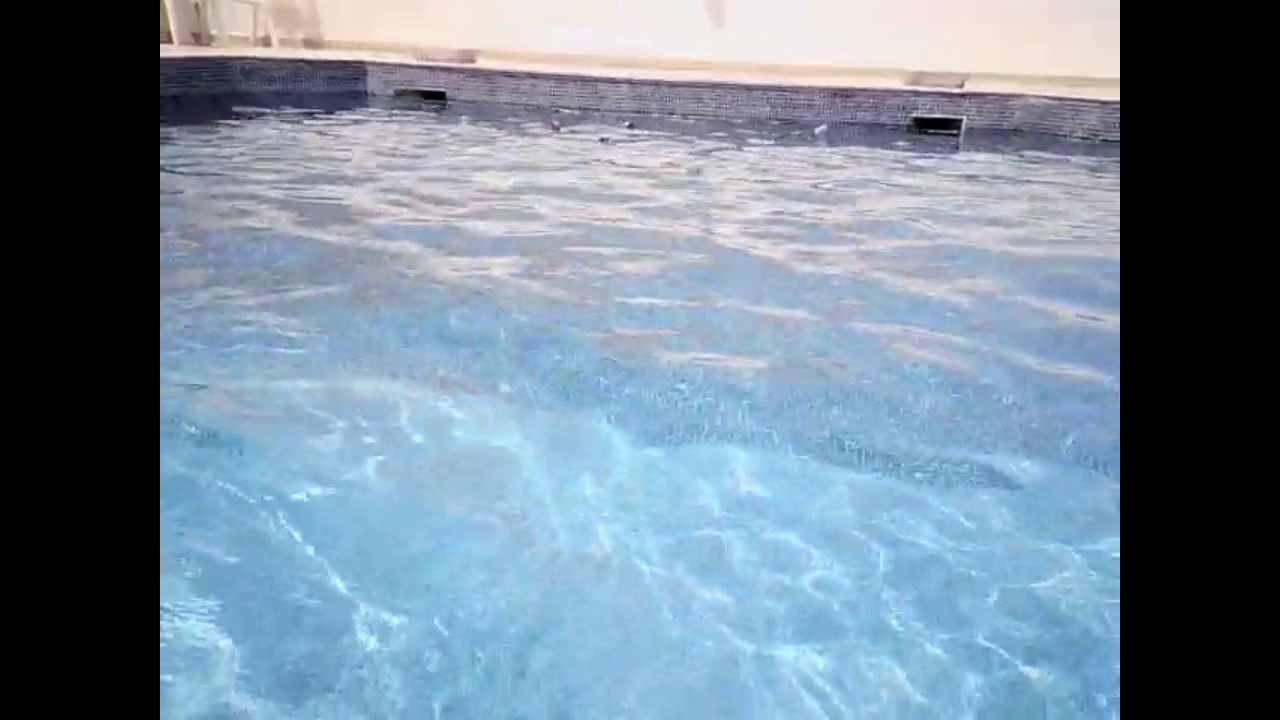debris: (808, 123, 832, 139), (548, 115, 564, 134), (595, 133, 615, 147), (618, 118, 636, 131)
